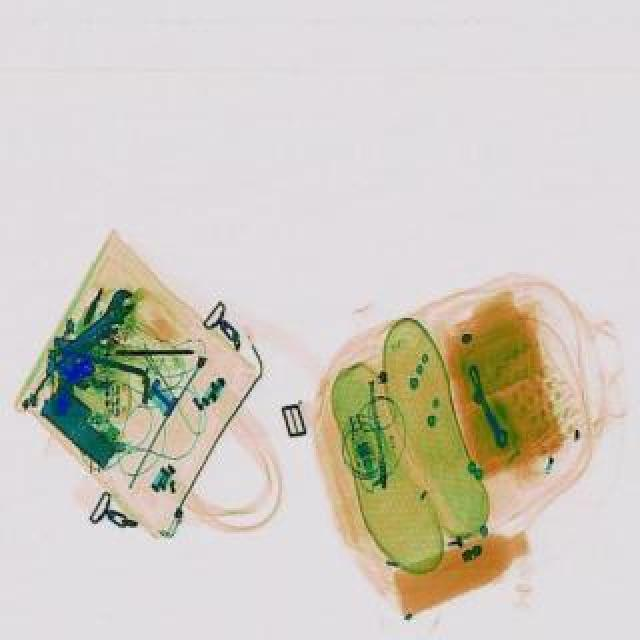scissors: (48, 282, 144, 362), (54, 314, 118, 370)
